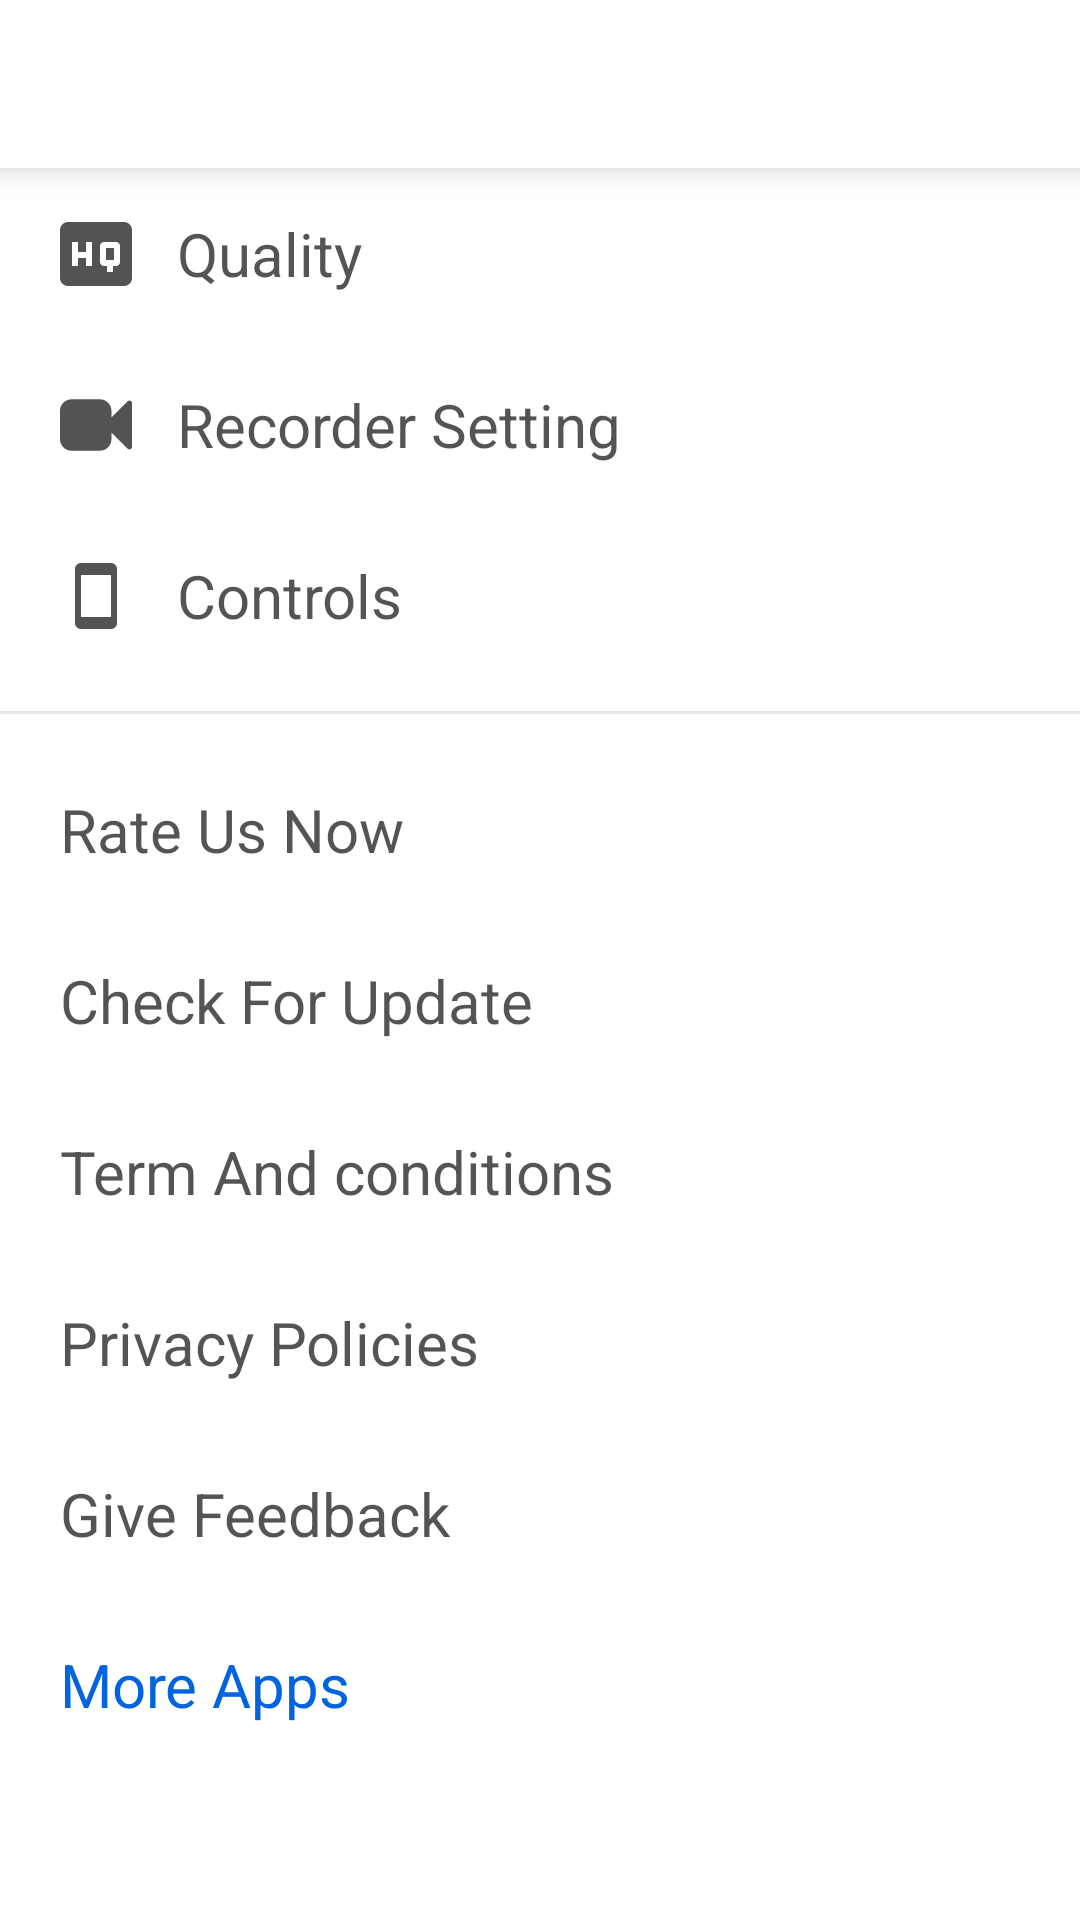

Named icons in this screenshot (1080px×1920px) and their bounding boxes, (x1, y1, x2, y2):
recording: (60, 399, 132, 451)
